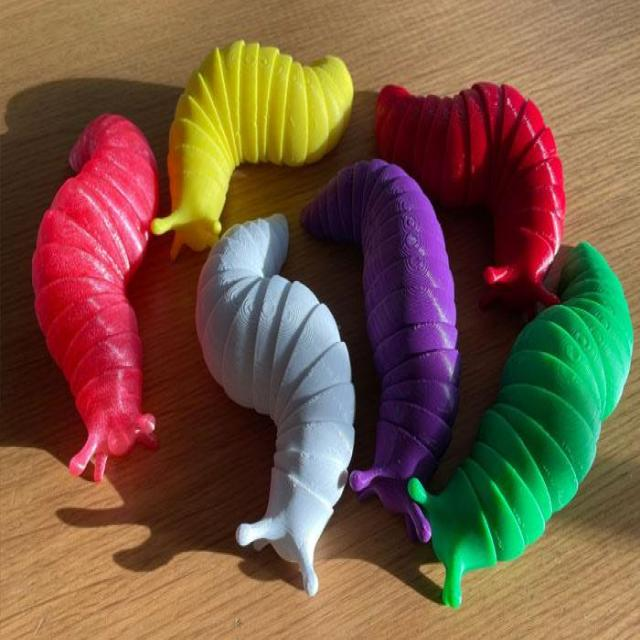Without deffect: (31, 27, 637, 620)
